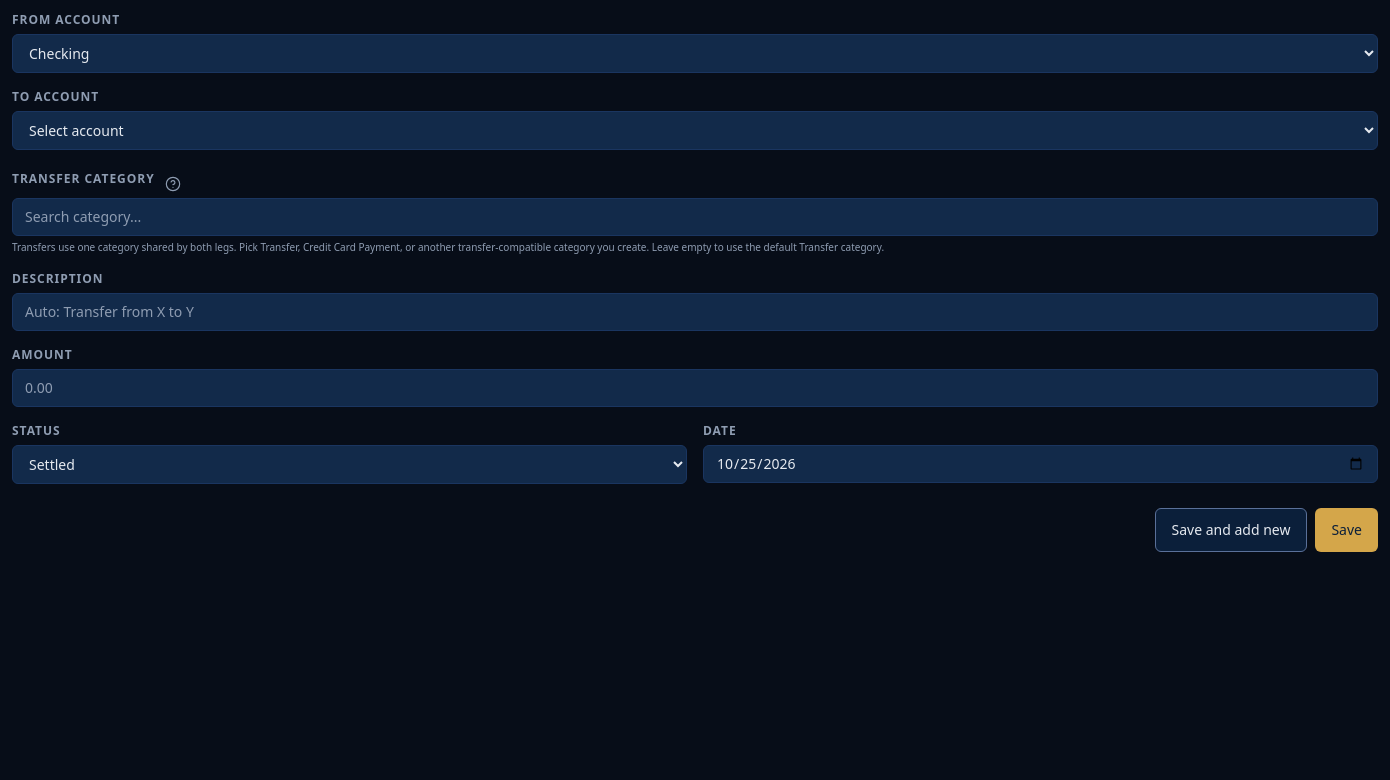
Test case: TransferForm › hides income- and expense-only categories from the transfer category picker
Focus the dropdown labelled "Transfer category" at (695, 217), box top-left (12, 198), bottom-right (1378, 236)
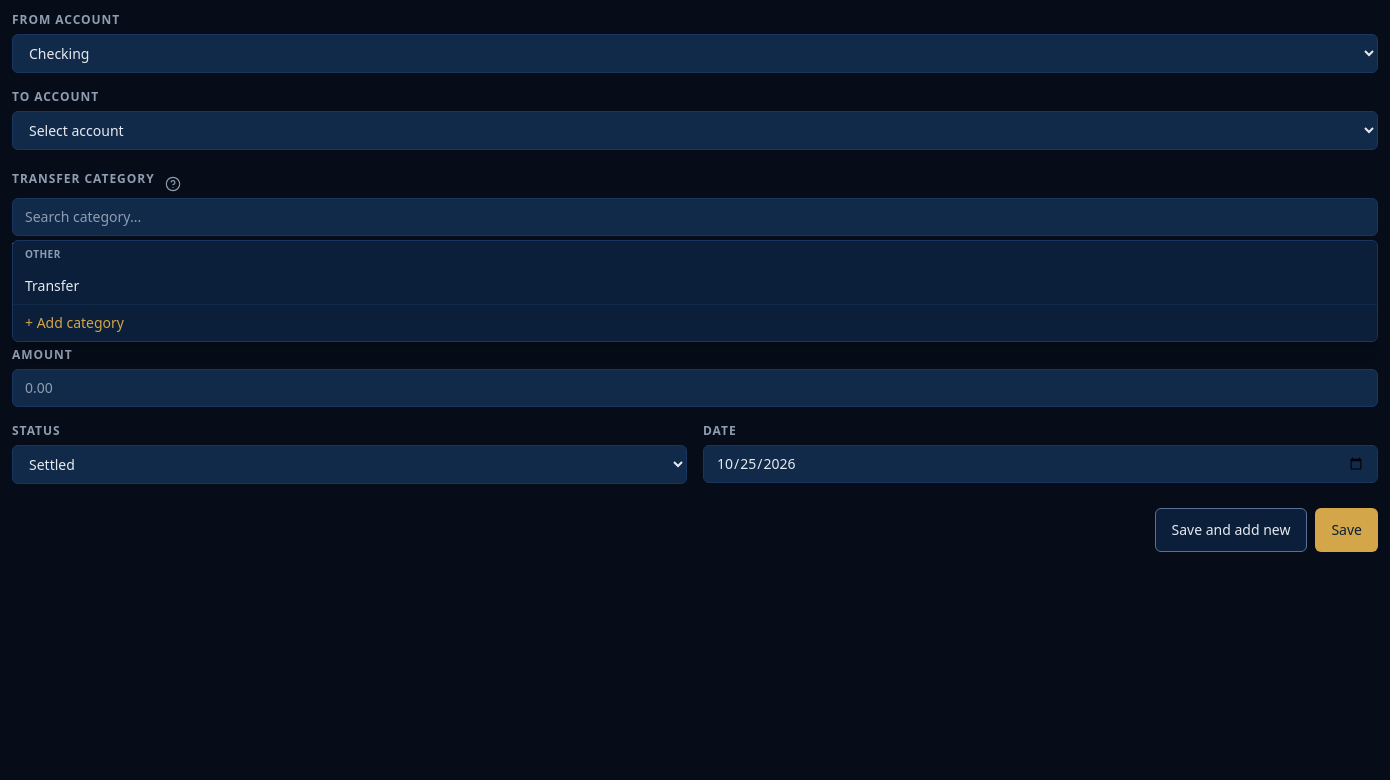
Now the text "Transfer" is shown, box top-left (25, 276), bottom-right (79, 296)
